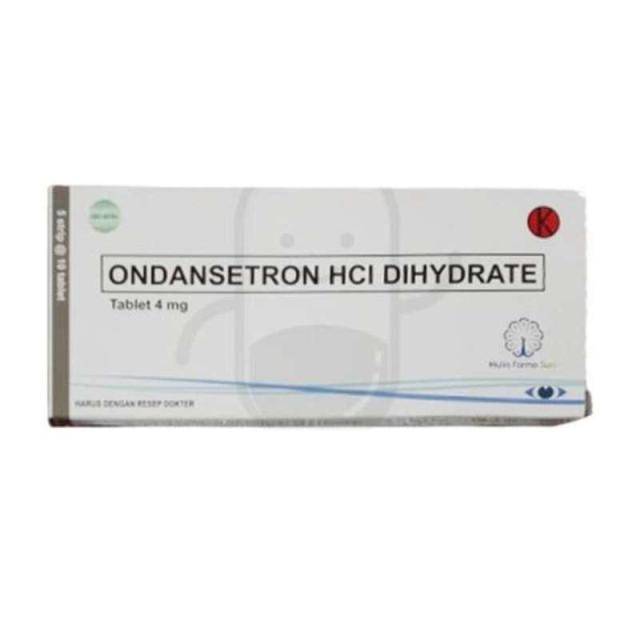drug-name: (100, 252, 540, 290)
